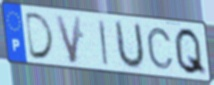C: (145, 26, 176, 71)
D: (24, 11, 57, 61)
I: (97, 18, 110, 67)
Q: (173, 26, 209, 78)
U: (114, 18, 147, 71)
V: (53, 13, 83, 65)
